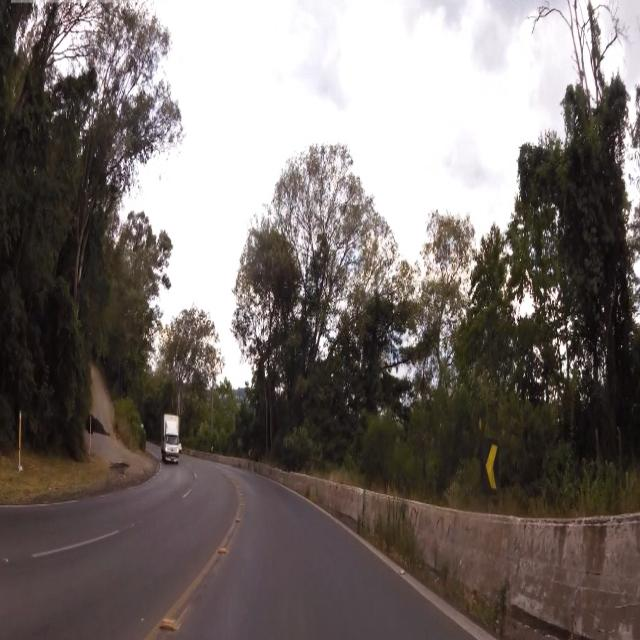Del: (480, 432, 499, 498)
